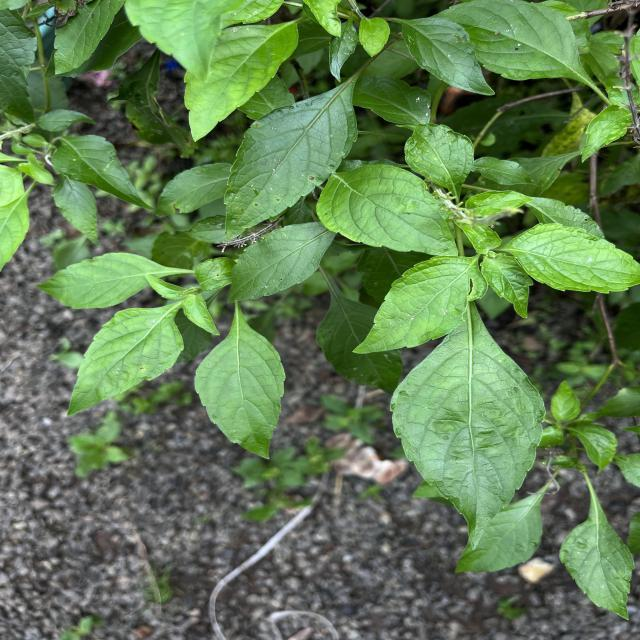Ocimum gratissimum: (385, 312, 550, 554), (216, 60, 363, 248), (434, 0, 610, 98), (192, 296, 290, 467), (314, 159, 464, 266), (180, 18, 303, 146), (64, 296, 186, 422), (350, 250, 490, 358), (557, 470, 640, 626), (388, 10, 512, 101), (503, 218, 640, 296), (30, 250, 194, 312)
